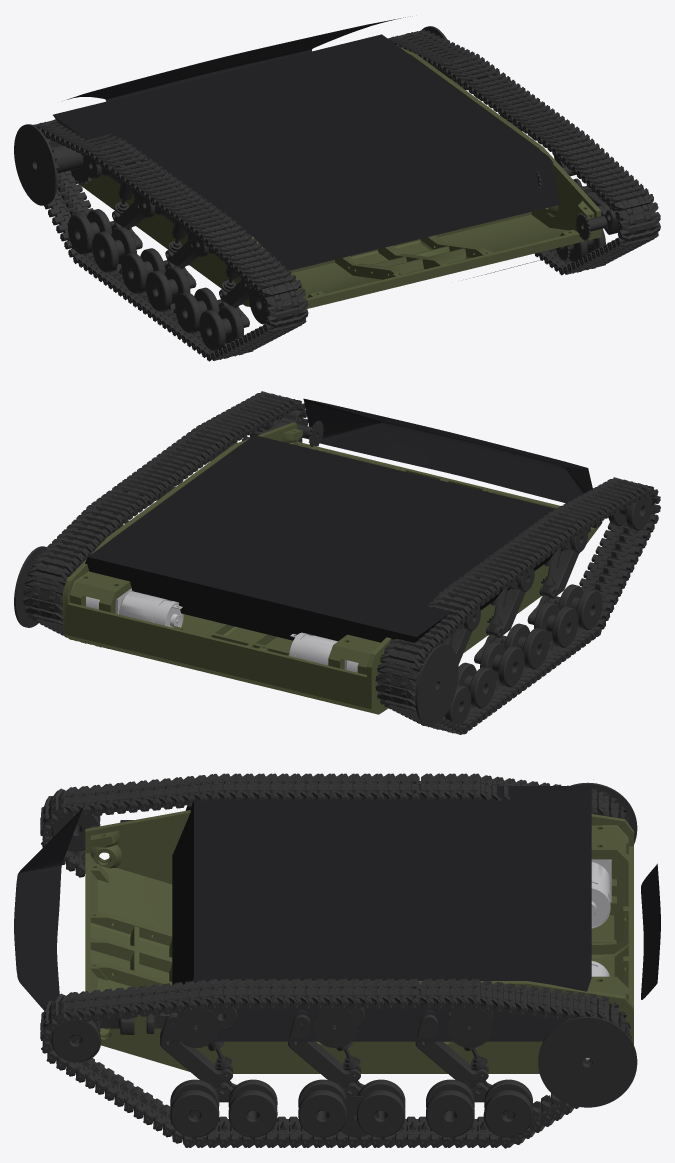
File: bravo-v3.glb
3 views of the same model, one above another, from view 1: azimuth 30°, elevation 25°; view 2: azimuth 150°, elevation 25°; view 3: azimuth 270°, elevation 25° (orthographic). The views are drawn at different scales.
Parts seen in each view (by area): view 1: Plane.003, Body10, Plane.001, Body19, Body12, Bravo Tank Sprocket 8mm Shaft.001, Bravo Track Support Wheel.018, Bravo Track Support Wheel.016, Bravo Track Support Wheel.014, Body13, Bravo Track Support Wheel.017, Bravo Track Support Wheel.015 (+6 smaller); view 2: Plane.003, Plane.001, Body21, Body7, Body17, Bravo Tank Sprocket 8mm Shaft.001, Motor Left, Bravo Track Support Wheel.019, Bravo Track Support Wheel.017, Bravo Track Support Wheel.016, Bravo Track Support Wheel.018, Motor Right (+9 smaller); view 3: Plane.003, Body12, Plane.001, Bravo Tank Sprocket 8mm Shaft, Body21, Body19, Body10, Body11, Body7, Bravo Track Support Wheel, Bravo Track Support Wheel.005, Bravo Track Support Wheel.003 (+15 smaller).
Boxes of the visible parts, x1=… form: Plane.003: x1=53, y1=34, x2=559, y2=270; Body10: x1=432, y1=140, x2=601, y2=264; Plane.001: x1=67, y1=16, x2=553, y2=279; Body19: x1=346, y1=236, x2=489, y2=285; Body12: x1=225, y1=236, x2=403, y2=308; Bravo Tank Sprocket 8mm Shaft.001: x1=14, y1=124, x2=91, y2=205; Bravo Track Support Wheel.018: x1=199, y1=305, x2=243, y2=350; Bravo Track Support Wheel.016: x1=145, y1=266, x2=190, y2=311; Bravo Track Support Wheel.014: x1=92, y1=227, x2=136, y2=272; Body13: x1=155, y1=213, x2=224, y2=289; Bravo Track Support Wheel.017: x1=121, y1=248, x2=165, y2=293; Bravo Track Support Wheel.015: x1=68, y1=209, x2=112, y2=254; Plane.003: x1=85, y1=435, x2=563, y2=642; Plane.001: x1=297, y1=398, x2=592, y2=503; Body21: x1=63, y1=502, x2=222, y2=666; Body7: x1=260, y1=634, x2=464, y2=714; Body17: x1=174, y1=623, x2=292, y2=687; Bravo Tank Sprocket 8mm Shaft.001: x1=377, y1=644, x2=458, y2=725; Motor Left: x1=86, y1=588, x2=183, y2=627; Bravo Track Support Wheel.019: x1=534, y1=602, x2=578, y2=647; Bravo Track Support Wheel.017: x1=480, y1=641, x2=524, y2=687; Bravo Track Support Wheel.016: x1=504, y1=623, x2=548, y2=669; Bravo Track Support Wheel.018: x1=558, y1=584, x2=602, y2=629; Motor Right: x1=289, y1=632, x2=358, y2=672; Plane.003: x1=172, y1=786, x2=591, y2=1041; Body12: x1=85, y1=810, x2=190, y2=935; Plane.001: x1=14, y1=787, x2=660, y2=1010; Bravo Tank Sprocket 8mm Shaft: x1=538, y1=1016, x2=637, y2=1107; Body21: x1=412, y1=958, x2=633, y2=1073; Body19: x1=85, y1=915, x2=172, y2=983; Body10: x1=85, y1=965, x2=245, y2=1073; Body11: x1=246, y1=981, x2=411, y2=1073; Body7: x1=591, y1=814, x2=633, y2=942; Bravo Track Support Wheel: x1=228, y1=1079, x2=277, y2=1137; Bravo Track Support Wheel.005: x1=426, y1=1079, x2=474, y2=1137; Bravo Track Support Wheel.003: x1=298, y1=1079, x2=347, y2=1137.
Size of the model in its own units: 0.5187 by 0.1681 by 0.6036.
